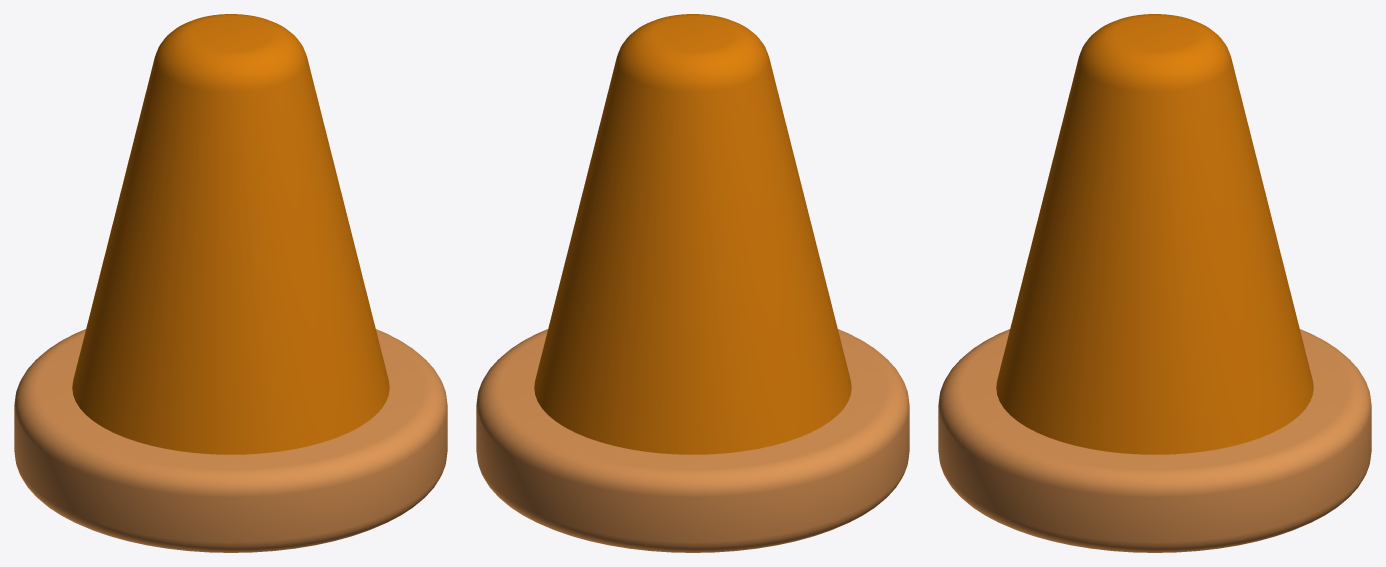
File: zhangai1.fbx
3 views of the same model, side by side, from view 1: azimuth 30°, elevation 25°; view 2: azimuth 150°, elevation 25°; view 3: azimuth 270°, elevation 25° (orthographic).
Visible parts, largest first — view 1: Cylinder.103, Cylinder.101; view 2: Cylinder.103, Cylinder.101; view 3: Cylinder.103, Cylinder.101.
Part boxes in pixels (<box>): Cylinder.103: <box>72,14,389,454</box>; Cylinder.101: <box>14,329,447,552</box>; Cylinder.103: <box>534,14,851,454</box>; Cylinder.101: <box>476,329,909,552</box>; Cylinder.103: <box>996,14,1313,454</box>; Cylinder.101: <box>938,329,1371,552</box>.
Bounding box in the file's own units: 327 × 361 × 327.
